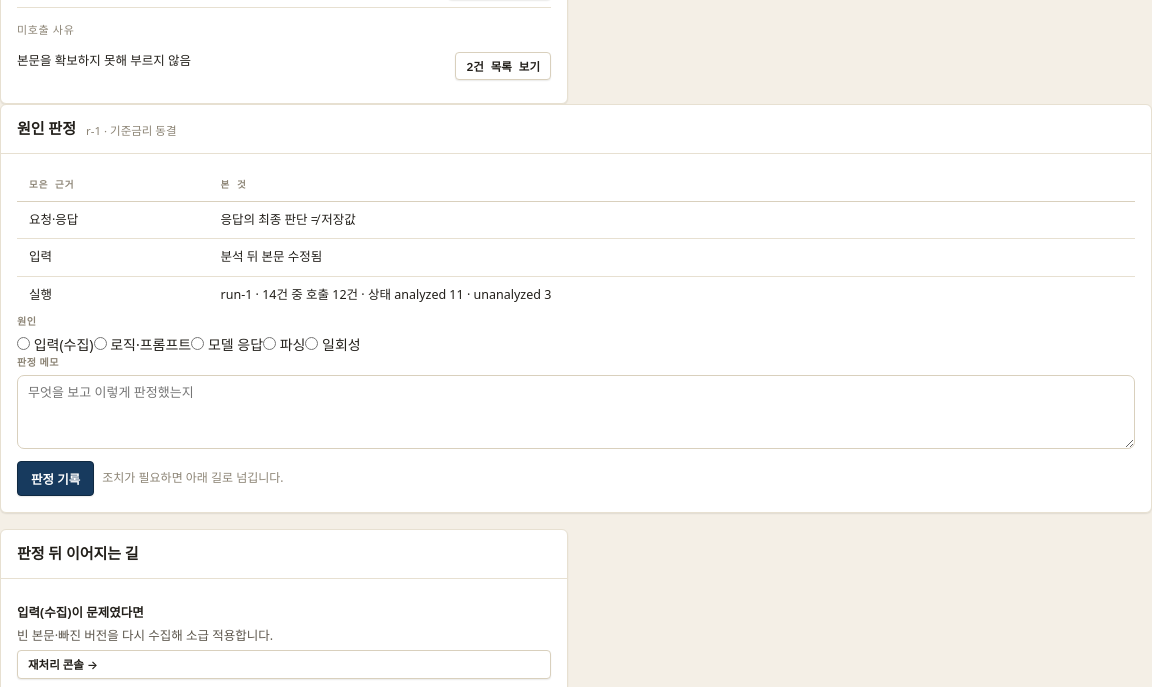
Test case: records a cause and says the verdict does not outlive the screen
(page scrolled)
Click the radio button labelled "파싱" at [270, 344], box [263,337,276,350]
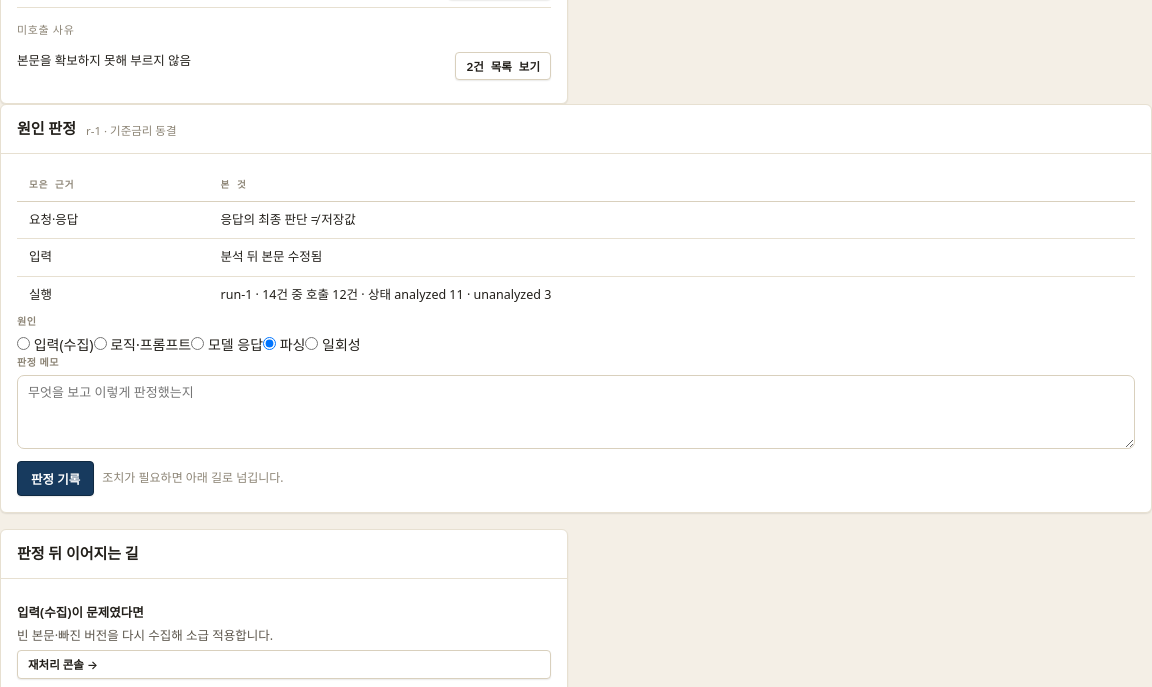
Type "응답 끝의 JSON 이 저장값과 다르다" into the text box labelled "판정 메모" at [576, 412], box [17,375,1135,449]
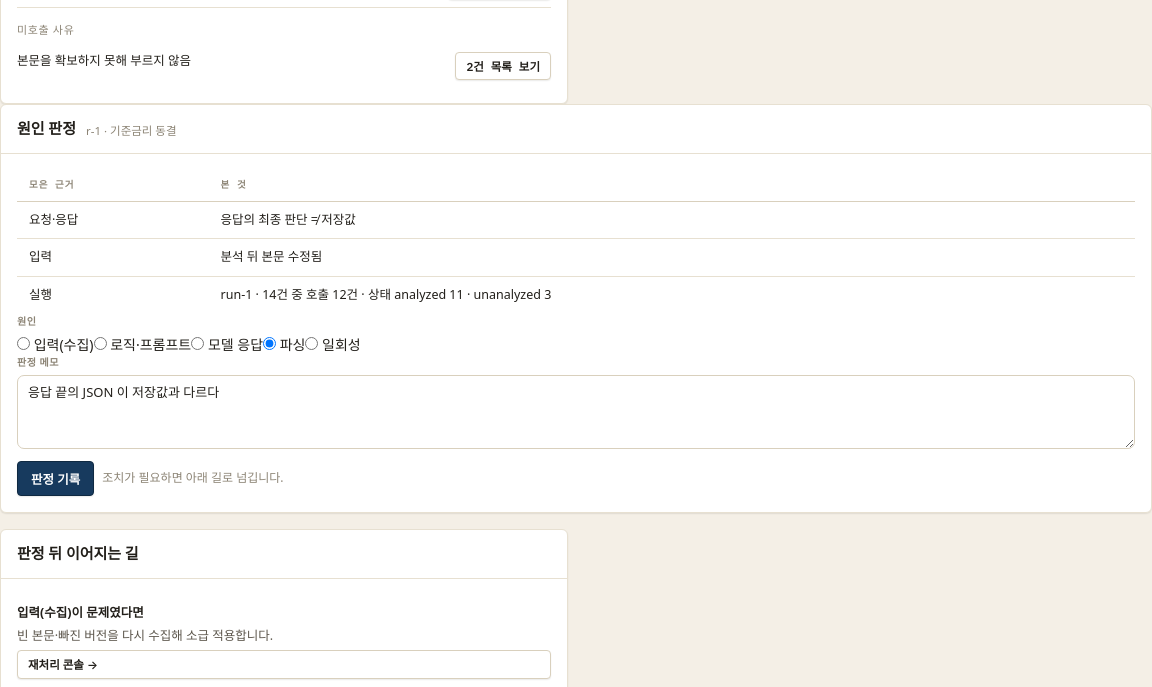
Submit the form, box [17,314,1135,496]
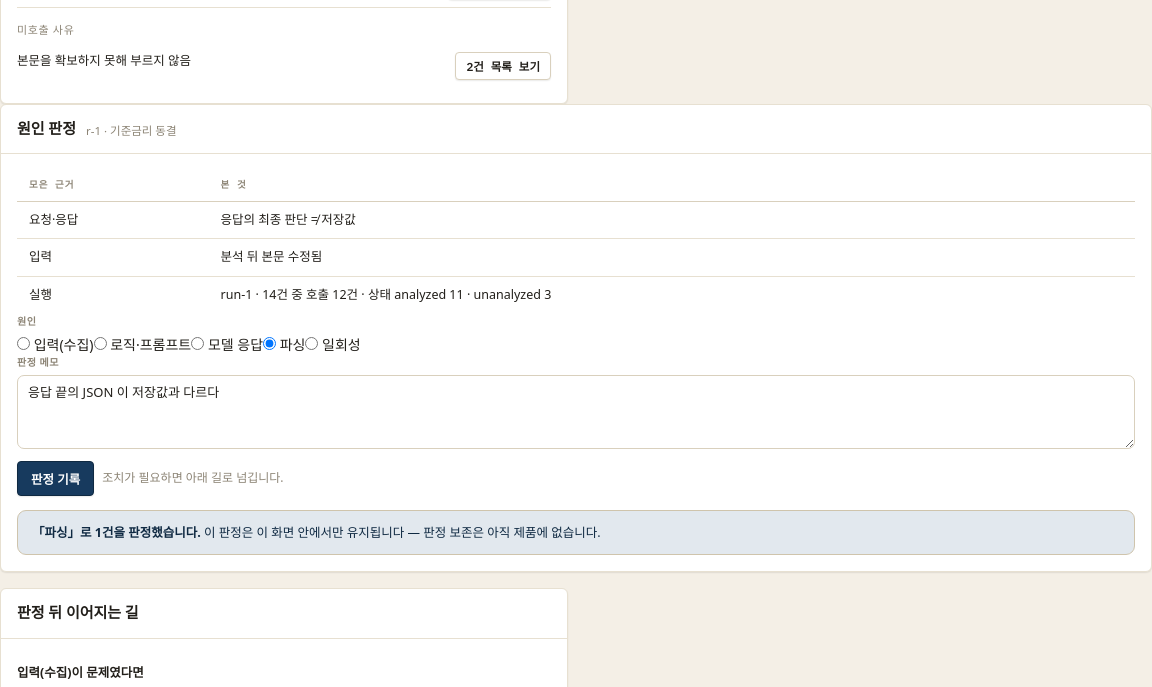
Expected: the text "「파싱」로 1건을 판정했습니다." is shown, [32,524,201,541]
Expected: the text "이 화면 안에서만" is shown, [201,524,601,541]
